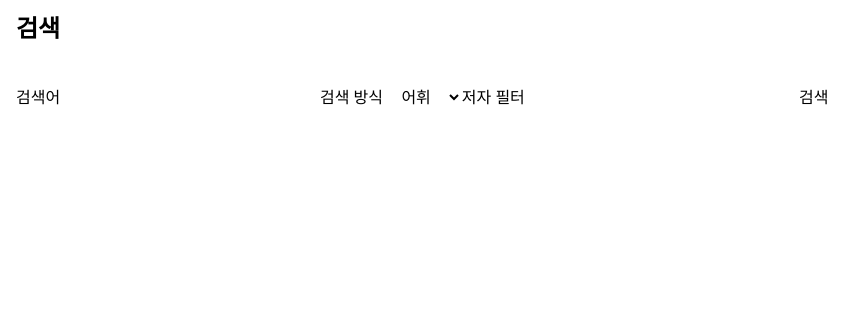
U3 discovery surface › distinguishes an empty result from a retrieval failure
The image size is (859, 322).
Type "nothing" into the field with test id "search-query".
click(190, 98); type("nothing")  # box [60,66,320,129]
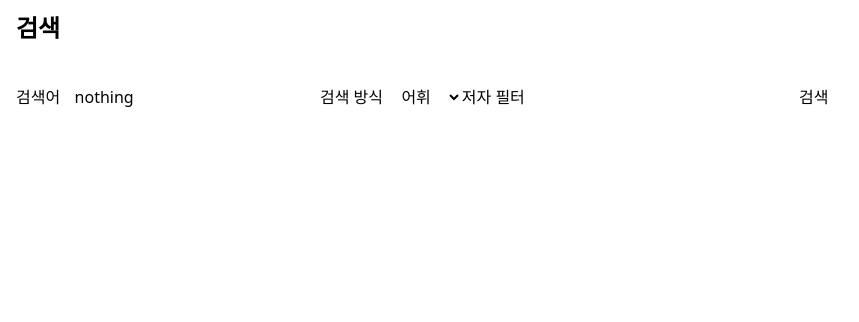
Click the button with test id "search-submit".
click(814, 98)  # box [785,76,843,120]
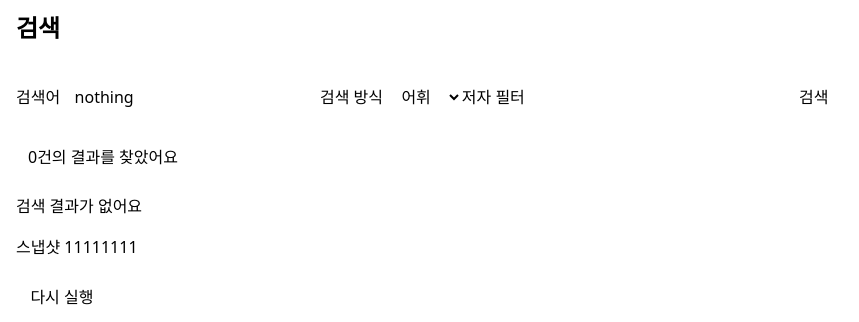
Check: the message with test id "search-status" reads "검색 결과가 없어요", box [16,195,142,217]
